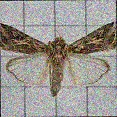Spodoptera litura: (1, 21, 117, 98)
